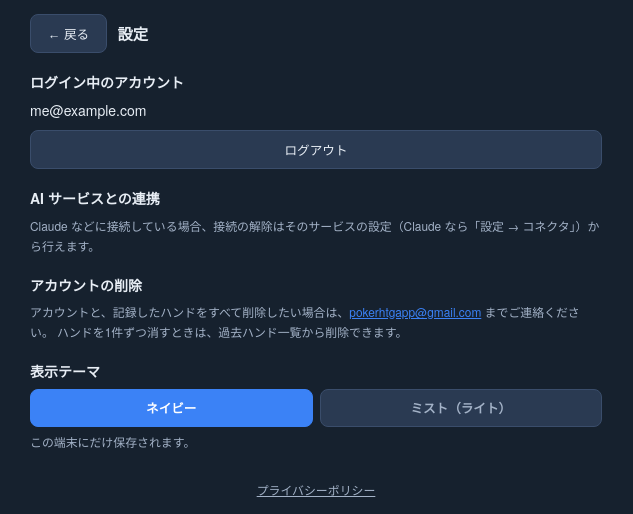
Test: SettingsPage › ログアウトするとトップへ戻る
Click the button "ログアウト": (316, 150) [30,130,602,169]
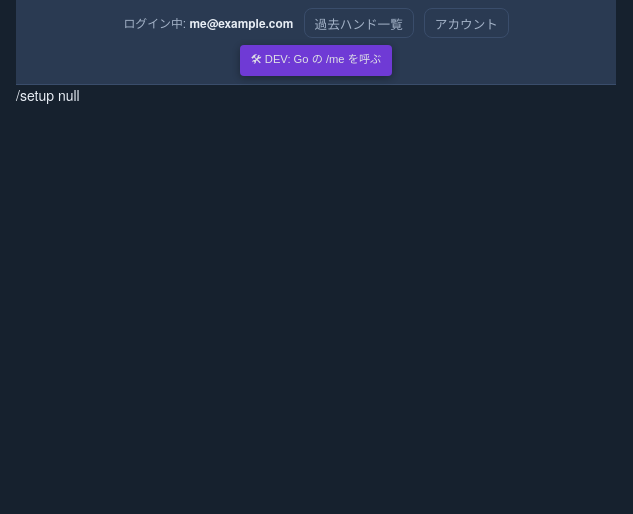
expect the text with test id "where" shows "/setup": met, box [16,85,80,105]
